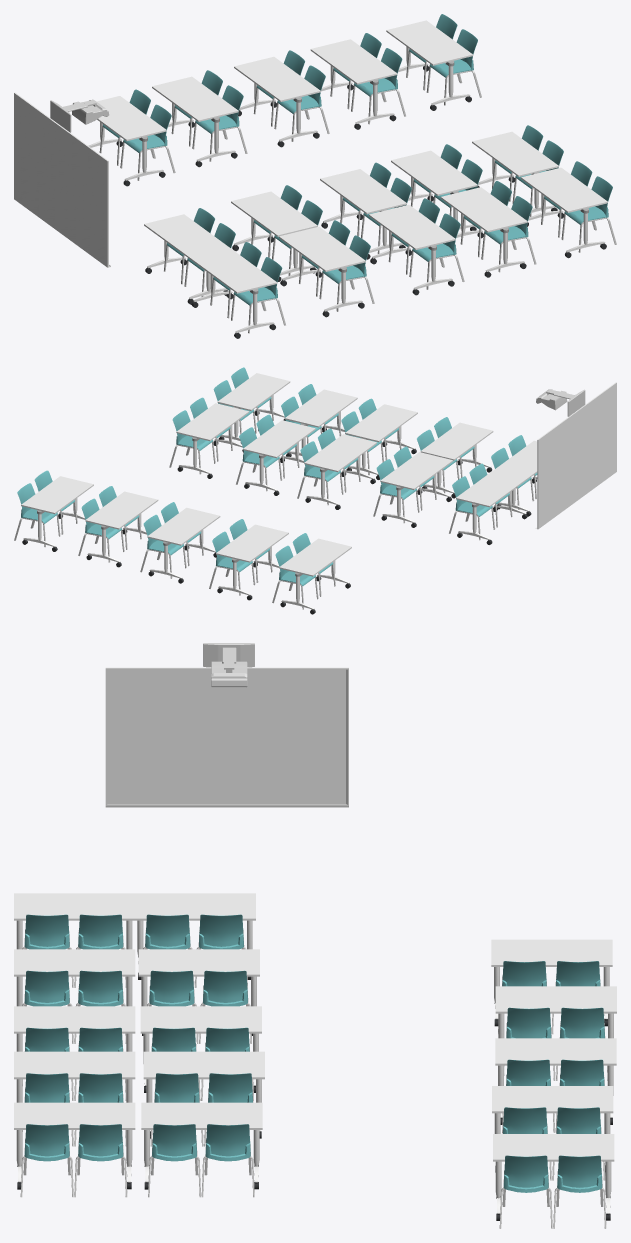
File: SALLE_A10.fbx
3 views of the same model, one above another, from view 1: azimuth 30°, elevation 25°; view 2: azimuth 150°, elevation 25°; view 3: azimuth 270°, elevation 25° (orthographic). The views are drawn at different scales.
Parts seen in each view (by area): view 1: bureaux_doubles_A10, chaise_dossier_A10, tableau_A10, chaise_pied_A10, bureaux_doubles_roues_A10, tableau_projo_A10; view 2: bureaux_doubles_A10, chaise_dossier_A10, tableau_A10, chaise_pied_A10, bureaux_doubles_roues_A10, tableau_projo_A10; view 3: bureaux_doubles_A10, chaise_dossier_A10, tableau_A10, chaise_pied_A10, tableau_projo_A10.
Boxes of the visible parts, box(x1,y1,x2,y2) form: bureaux_doubles_A10: box(88, 20, 607, 333); chaise_dossier_A10: box(103, 14, 612, 305); tableau_A10: box(14, 92, 110, 267); chaise_pied_A10: box(99, 49, 616, 333); bureaux_doubles_roues_A10: box(116, 65, 606, 338); tableau_projo_A10: box(50, 99, 109, 132); bureaux_doubles_A10: box(21, 373, 537, 609); chaise_dossier_A10: box(17, 367, 537, 586); tableau_A10: box(536, 382, 616, 529); chaise_pied_A10: box(14, 397, 536, 609); bureaux_doubles_roues_A10: box(22, 411, 536, 614); tableau_projo_A10: box(536, 389, 585, 416); bureaux_doubles_A10: box(14, 893, 616, 1213); chaise_dossier_A10: box(24, 914, 604, 1192); tableau_A10: box(105, 667, 348, 807); chaise_pied_A10: box(20, 930, 607, 1228); tableau_projo_A10: box(203, 643, 254, 687).
Bounding box in the file's own units: 763 × 270 × 583.
